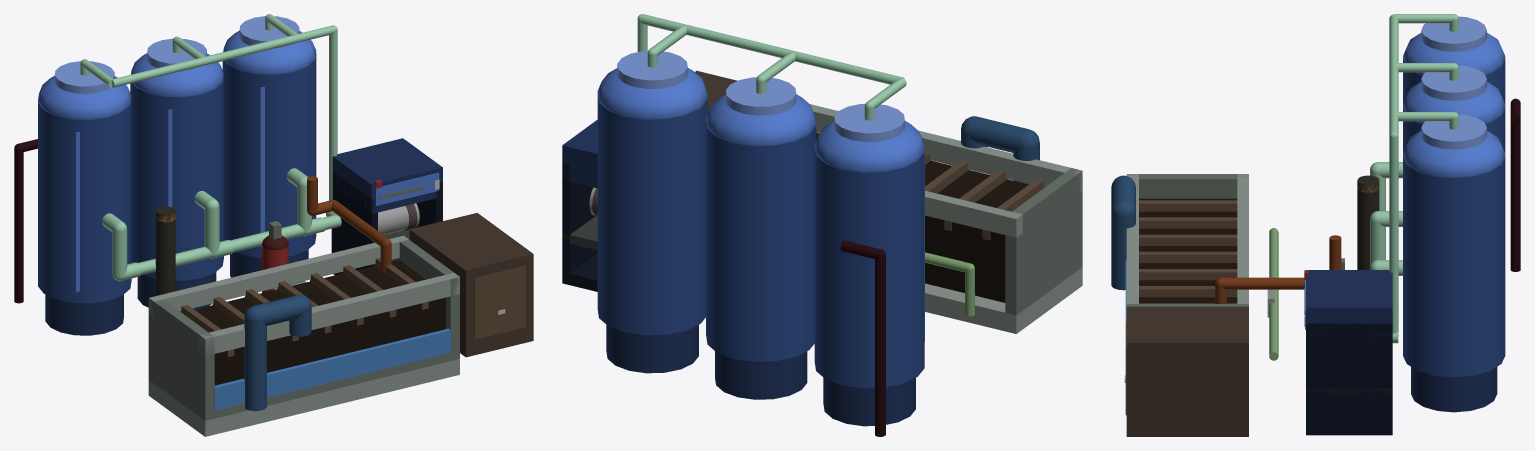
The model's file is CMU3DFiltrationSedimentation.glb.
3 views of the same model, side by side, from view 1: azimuth 30°, elevation 25°; view 2: azimuth 150°, elevation 25°; view 3: azimuth 270°, elevation 25° (orthographic). The views are drawn at different scales.
Visible parts, largest first — view 1: vessel 1 blue barrel, vessel 3 blue barrel, vessel 2 blue barrel, wide front filter bed dark filter well, brown front service cabinet, wide front filter bed left rim, wide front filter bed front observation strip, wide front filter bed lower foundation, wide front filter bed front upper beam, wide front filter bed rear rim, blue controller housing, shared upper mint header tube (×2) (+28 smaller); view 2: vessel 2 blue barrel, vessel 3 blue barrel, vessel 1 blue barrel, wide front filter bed left rim, wide front filter bed dark filter well, wide front filter bed front upper beam, wide front filter bed lower foundation, vessel 2 domed shoulder, vessel 1 domed shoulder, vessel 3 domed shoulder, vessel 2 pedestal foot ring, vessel 3 pedestal foot ring (+14 smaller); view 3: vessel 3 blue barrel, brown front service cabinet, pump rack right upright, wide front filter bed brown filter bar (×6), blue controller housing, wide front filter bed dark filter well, vessel 3 domed shoulder, vessel 3 pedestal foot ring, shared upper mint header tube (×2), wide front filter bed left rim, vessel 2 domed shoulder, vessel 1 domed shoulder (+17 smaller).
Part boxes in pixels (x1,y1,x2,y2): vessel 1 blue barrel: (38, 97, 131, 303); vessel 3 blue barrel: (222, 52, 316, 257); vessel 2 blue barrel: (130, 75, 223, 280); wide front filter bed dark filter well: (195, 260, 445, 385); brown front service cabinet: (409, 213, 533, 357); wide front filter bed left rim: (148, 296, 214, 420); wide front filter bed front observation strip: (214, 328, 450, 410); wide front filter bed lower foundation: (148, 359, 459, 436); wide front filter bed front upper beam: (199, 272, 459, 355); wide front filter bed rear rim: (148, 235, 408, 316); blue controller housing: (332, 138, 442, 213); shared upper mint header tube (×2): (112, 25, 337, 200); vessel 2 blue barrel: (706, 120, 816, 361); vessel 3 blue barrel: (597, 93, 707, 335); vessel 1 blue barrel: (814, 146, 924, 388); wide front filter bed left rim: (1005, 168, 1082, 315); wide front filter bed dark filter well: (816, 133, 1028, 302); wide front filter bed front upper beam: (810, 104, 1082, 191); wide front filter bed lower foundation: (925, 267, 1082, 333); vessel 2 domed shoulder: (706, 94, 816, 145); vessel 1 domed shoulder: (814, 121, 924, 172); vessel 3 domed shoulder: (597, 68, 707, 119); vessel 2 pedestal foot ring: (715, 351, 807, 399); vessel 3 pedestal foot ring: (606, 325, 698, 373); vessel 3 blue barrel: (1403, 156, 1505, 377); brown front service cabinet: (1126, 306, 1248, 436); pump rack right upright: (1306, 323, 1392, 435); wide front filter bed brown filter bar (×6): (1139, 200, 1237, 297); blue controller housing: (1306, 270, 1392, 339); wide front filter bed dark filter well: (1139, 198, 1237, 303); vessel 3 domed shoulder: (1403, 130, 1505, 177); vessel 3 pedestal foot ring: (1411, 367, 1497, 412); shared upper mint header tube (×2): (1389, 14, 1398, 336); wide front filter bed left rim: (1126, 174, 1248, 198); vessel 2 domed shoulder: (1403, 81, 1505, 123); vessel 1 domed shoulder: (1403, 33, 1505, 74).
Bounding box in the file's own units: 2.91 × 2.12 × 2.79.
